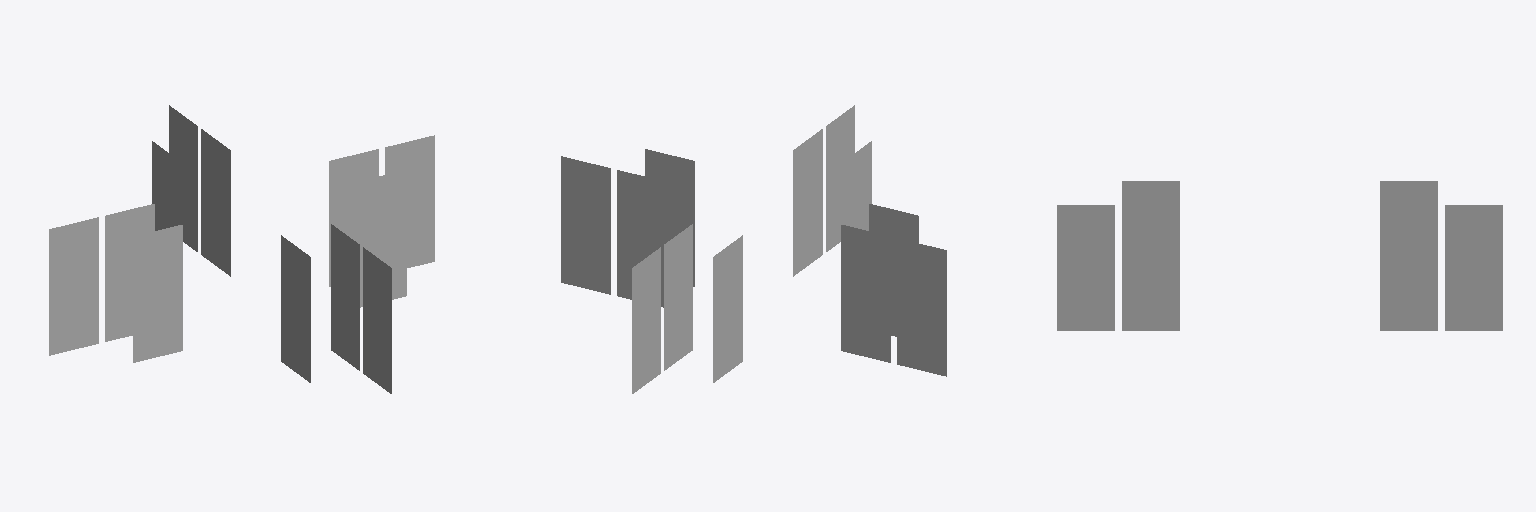
File: TallTopWindow.obj
3 renders of one model, left to right at view 1: azimuth 30°, elevation 25°; view 2: azimuth 150°, elevation 25°; view 3: azimuth 270°, elevation 25°, orthographic.
Visible parts, largest first — view 1: TallTopWindow; view 2: TallTopWindow; view 3: TallTopWindow.
Part boxes in pixels (bbox=[...]): TallTopWindow: bbox=[49, 105, 434, 393]; TallTopWindow: bbox=[561, 105, 946, 393]; TallTopWindow: bbox=[1057, 181, 1502, 330].
Bounding box in the file's own units: 1289 × 404 × 1289.